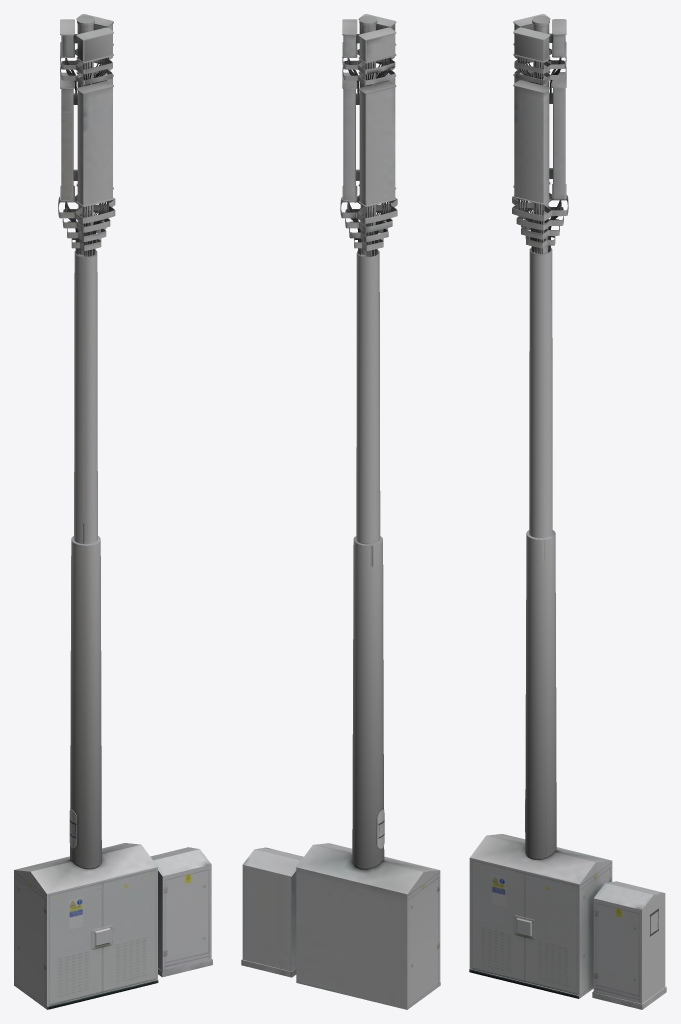
3 views of the same model, side by side, from view 1: azimuth 30°, elevation 25°; view 2: azimuth 150°, elevation 25°; view 3: azimuth 330°, elevation 25° (orthographic).
Parts seen in each view (by area): view 1: body|Base_colour, body|Main_box, body|Tall_box, body|Main_box_sides, body|Wire; view 2: body|Base_colour, body|Main_box_sides, body|Tall_box, body|Main_box, body|Wire; view 3: body|Base_colour, body|Main_box, body|Tall_box, body|Tall_box_sides, body|Main_box_sides, body|Wire.
Boxes of the visible parts, x1=… form: body|Base_colour: x1=58, y1=14, x2=115, y2=869; body|Main_box: x1=15, y1=843, x2=158, y2=1009; body|Tall_box: x1=150, y1=847, x2=212, y2=977; body|Main_box_sides: x1=14, y1=870, x2=46, y2=1009; body|Wire: x1=65, y1=57, x2=108, y2=256; body|Base_colour: x1=340, y1=14, x2=397, y2=869; body|Main_box_sides: x1=296, y1=867, x2=440, y2=1009; body|Tall_box: x1=241, y1=847, x2=303, y2=977; body|Main_box: x1=296, y1=843, x2=440, y2=985; body|Wire: x1=347, y1=57, x2=391, y2=256; body|Base_colour: x1=512, y1=14, x2=568, y2=859; body|Main_box: x1=469, y1=834, x2=611, y2=998; body|Tall_box: x1=592, y1=881, x2=666, y2=1009; body|Tall_box_sides: x1=642, y1=893, x2=665, y2=1003; body|Main_box_sides: x1=579, y1=860, x2=612, y2=998; body|Wire: x1=518, y1=57, x2=561, y2=253.
Size of the model in its own units: 5.91 by 32 by 2.03.
Materials: 8 (8 with a texture image).
